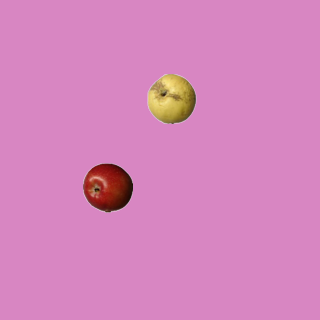Apple Braeburn: (82, 162, 132, 212)
Apple Golden 1: (146, 73, 196, 123)
